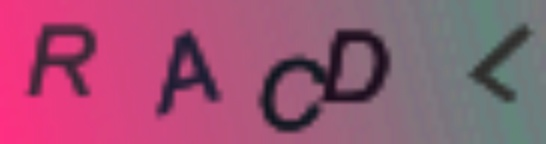A: (153, 27, 225, 119)
C: (254, 51, 331, 135)
D: (323, 26, 396, 107)
L: (464, 22, 537, 104)
R: (24, 21, 98, 100)
